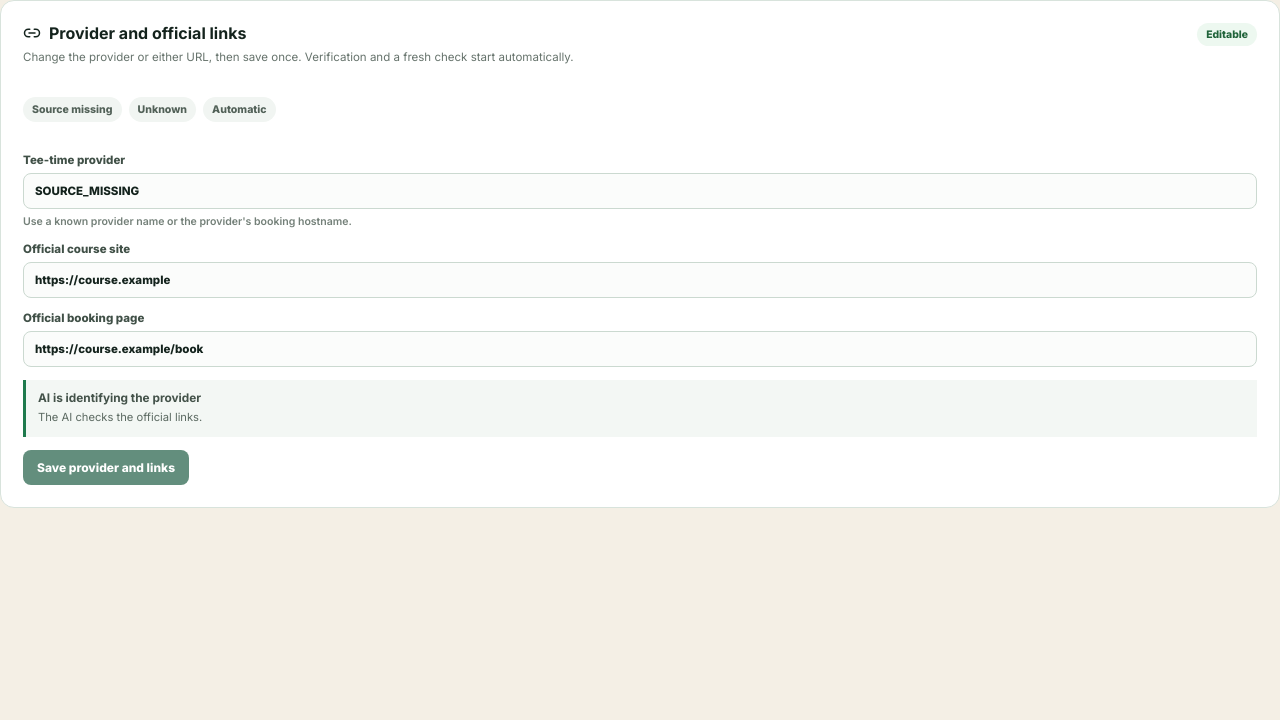
Test case: operator course controls › makes both official URLs editable and ties changes to verification
This screenshot has width=1280, height=720.
Expected: the button "Save provider and links" is disabled, top-left (23, 450), bottom-right (189, 485)
Expected: the field labelled "Tee-time provider" is shown, top-left (23, 173), bottom-right (1257, 209)
Type "https://course.example/new-booking" into the field labelled "Official booking page" at (640, 350), box top-left (23, 332), bottom-right (1257, 368)
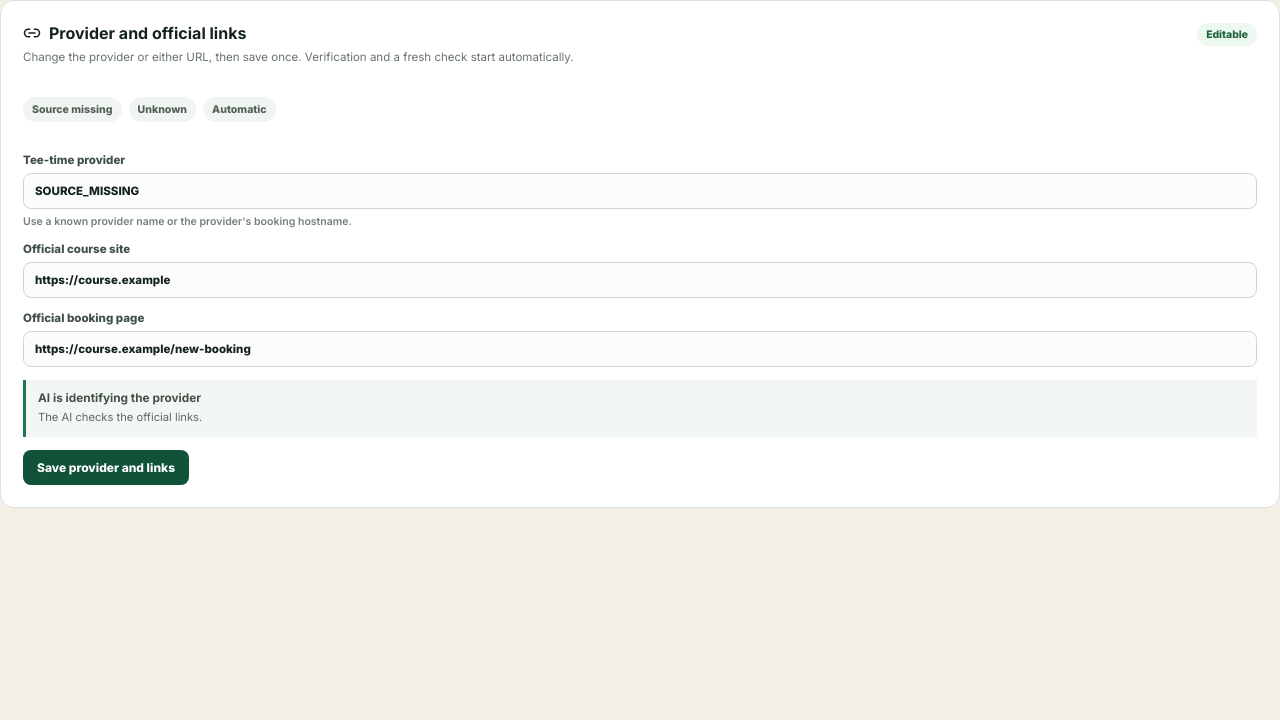
Expected: the text "Verification and a fresh check start automatically" is shown, top-left (23, 50), bottom-right (574, 64)
Now the button "Save provider and links" is enabled, box top-left (23, 450), bottom-right (189, 485)
